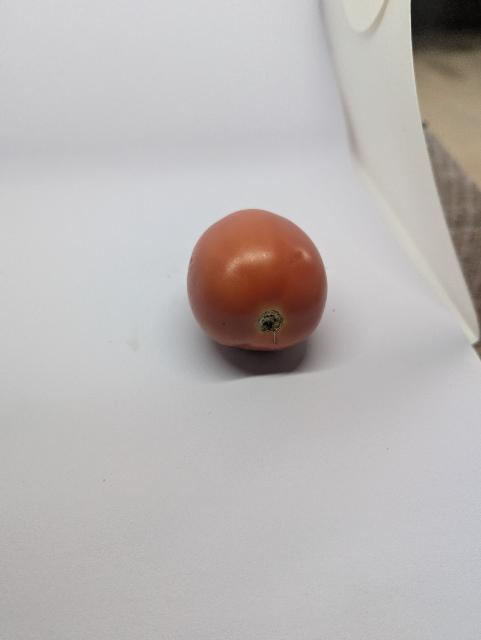red: (183, 204, 337, 370)
